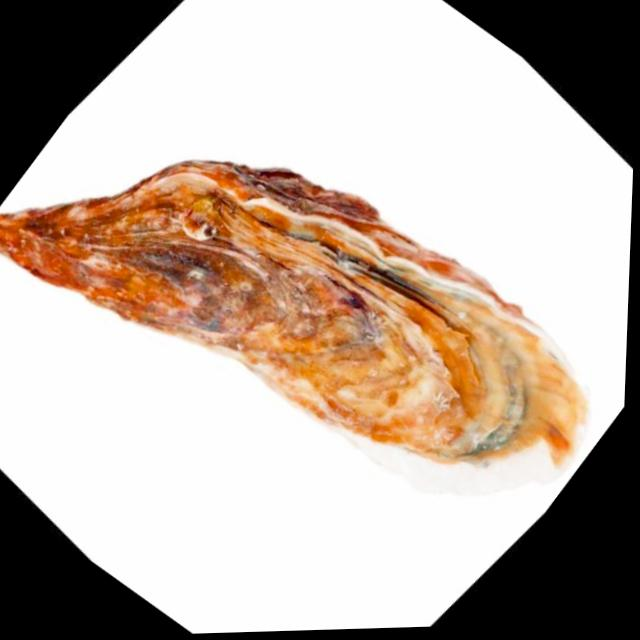Oyster-Closed: (0, 12, 638, 604)
